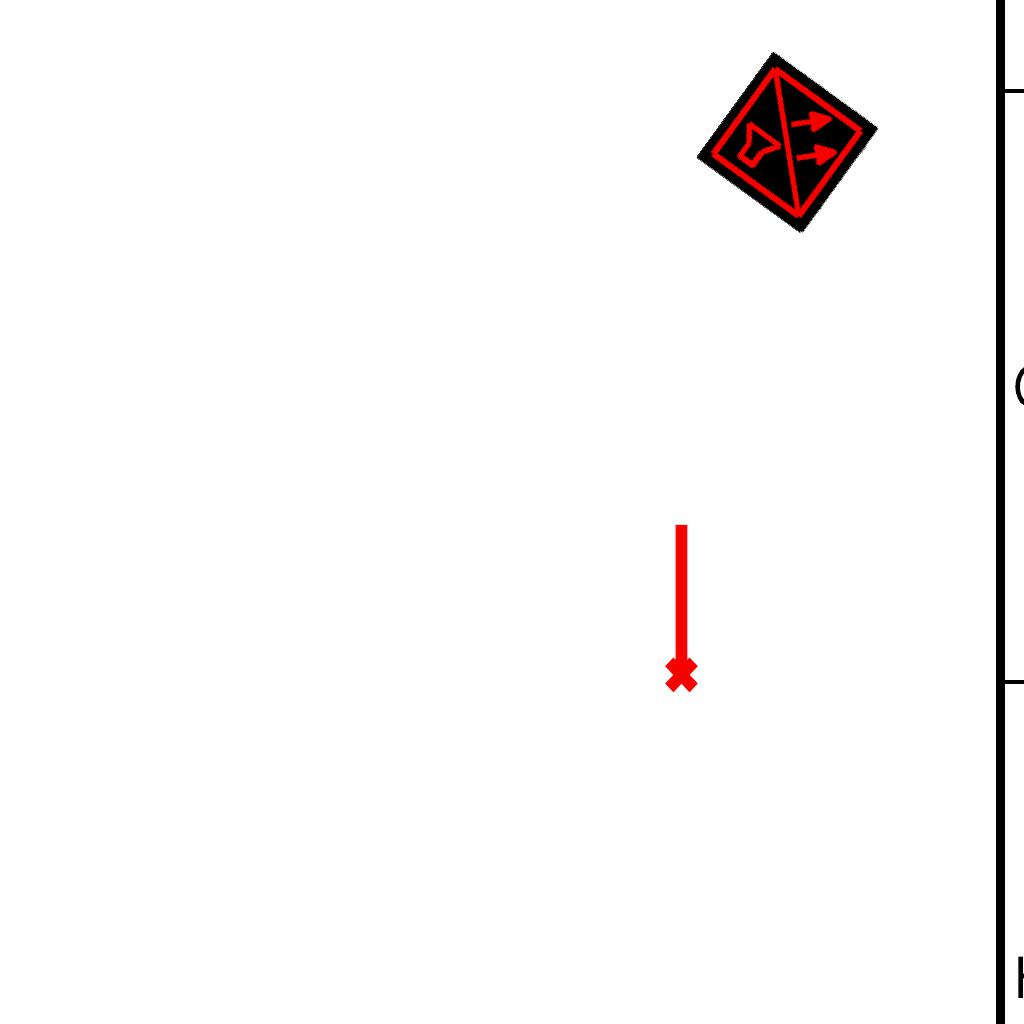ASR_Ansaugoeffnung: (656, 519, 702, 695)
OKW_Multisensormelder_(Kombination_optischer_Rauch-Kahlenmonoxid_Waerme-Melder): (695, 50, 881, 236)
